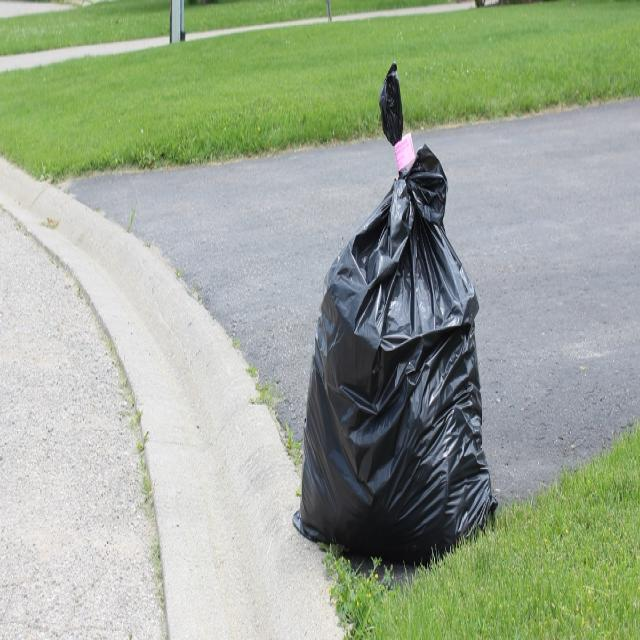plastic_bag: (301, 68, 493, 549)
